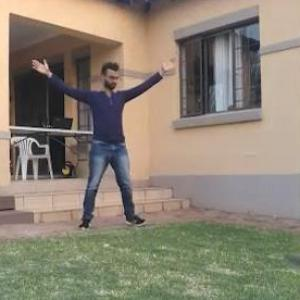takeoff: (30, 55, 180, 224)
